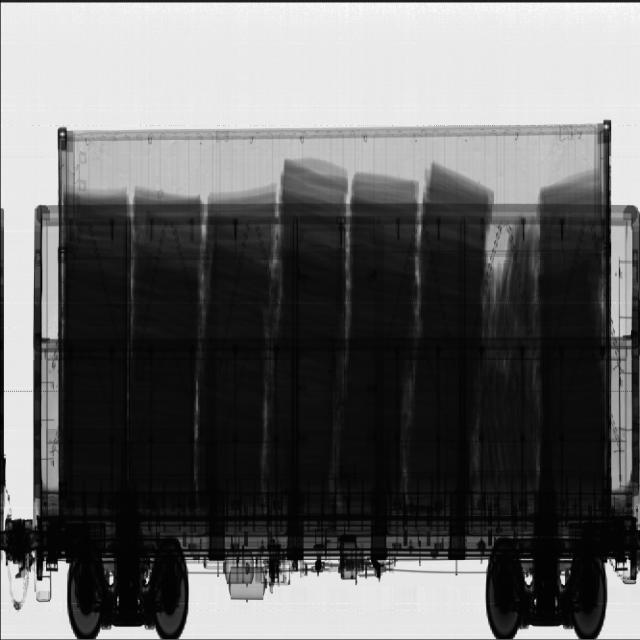fabrics: (63, 158, 608, 502)
